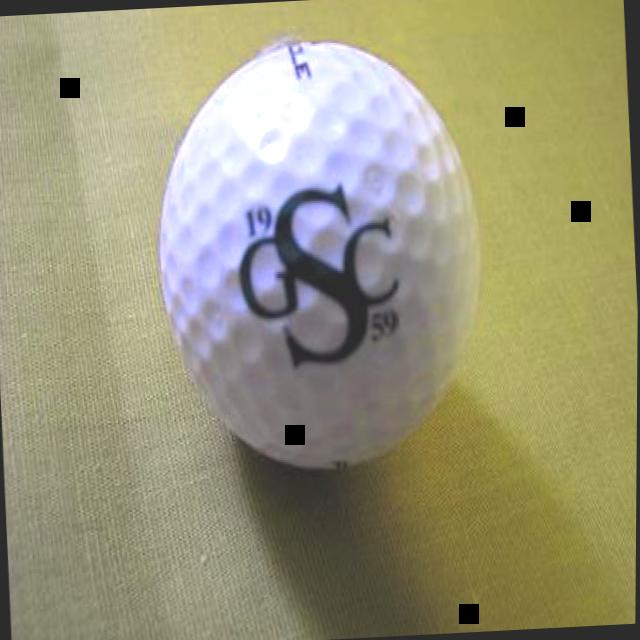golf ball: (136, 19, 493, 508)
